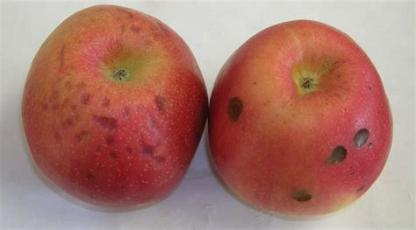defect: (34, 85, 176, 199), (324, 112, 380, 196), (108, 6, 170, 50), (274, 170, 320, 218), (221, 82, 253, 140)
